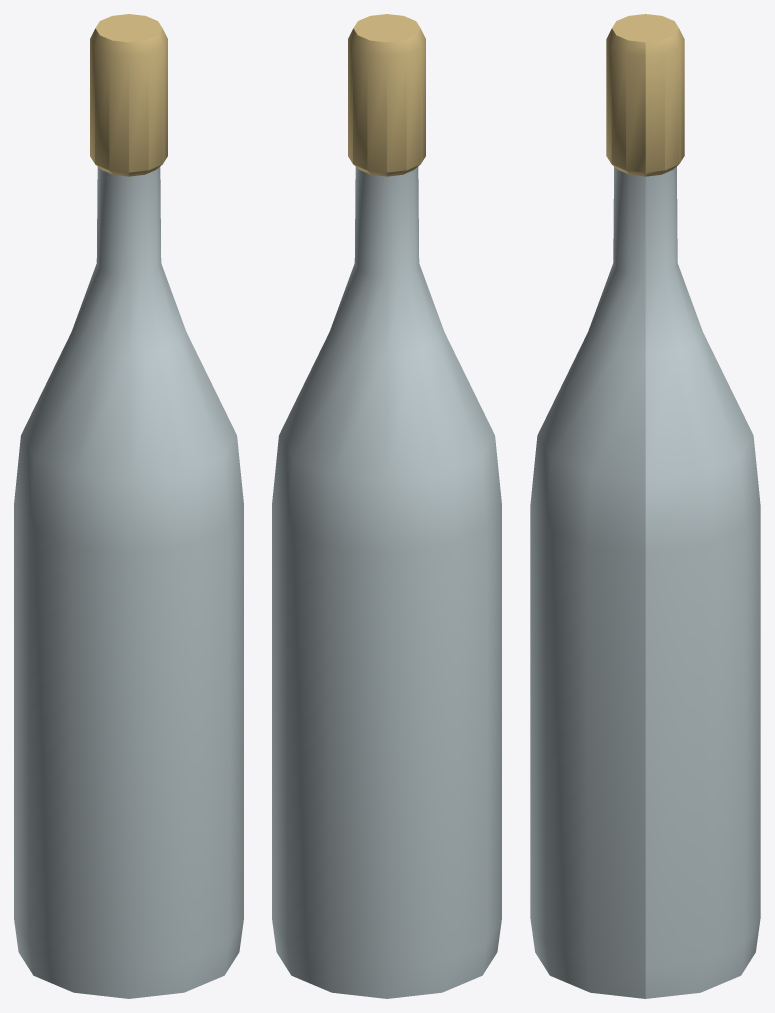
Rendered from bar-pub-and-brewery-taproom-wine-bottle-ce41bfe4__18435.glb.
3 views of the same model, side by side, from view 1: azimuth 30°, elevation 25°; view 2: azimuth 150°, elevation 25°; view 3: azimuth 270°, elevation 25° (orthographic).
Visible parts, largest first — view 1: wine-bottle; view 2: wine-bottle; view 3: wine-bottle.
Boxes of the visible parts, box(x1,y1,x2,y2) form: wine-bottle: box(14, 14, 243, 998); wine-bottle: box(272, 14, 501, 998); wine-bottle: box(530, 14, 760, 998).
Bounding box in the file's own units: 0.075 × 0.3325 × 0.075.
